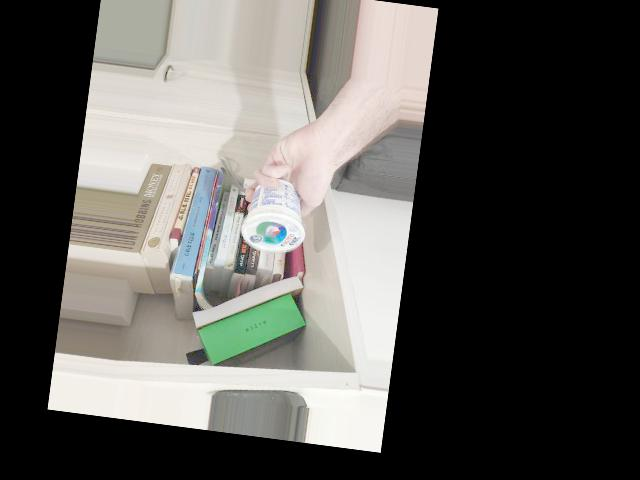cotage: (237, 163, 309, 258)
